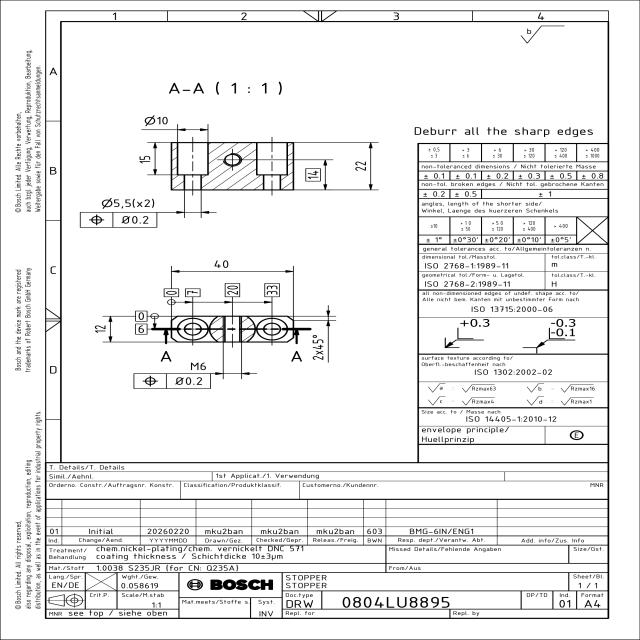dimension: (100, 196, 157, 210), (310, 334, 326, 362), (144, 114, 170, 127), (302, 167, 321, 183), (223, 282, 242, 298), (263, 282, 281, 298), (137, 152, 152, 166), (134, 322, 148, 336), (189, 361, 208, 371), (212, 259, 230, 269), (133, 310, 148, 322), (163, 288, 180, 298), (184, 288, 201, 298), (354, 160, 368, 172), (93, 324, 107, 336)
